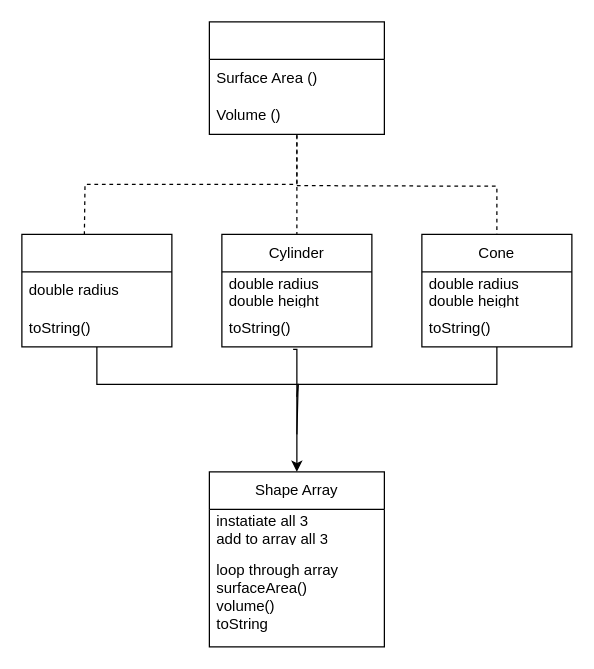
Image size: 594x669. Some labels were removed from this diagram. Here are the shapes that lost their labels. From the top down, the box of each, then its label:
(208, 21, 384, 134): Shape
(21, 233, 172, 347): Sphere
